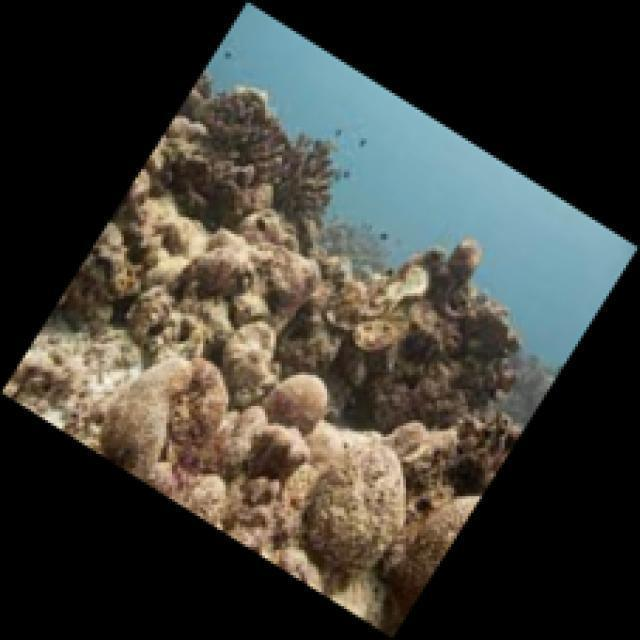Dead Coral: (90, 306, 348, 487), (294, 385, 470, 576), (330, 229, 530, 389), (192, 80, 367, 252)
